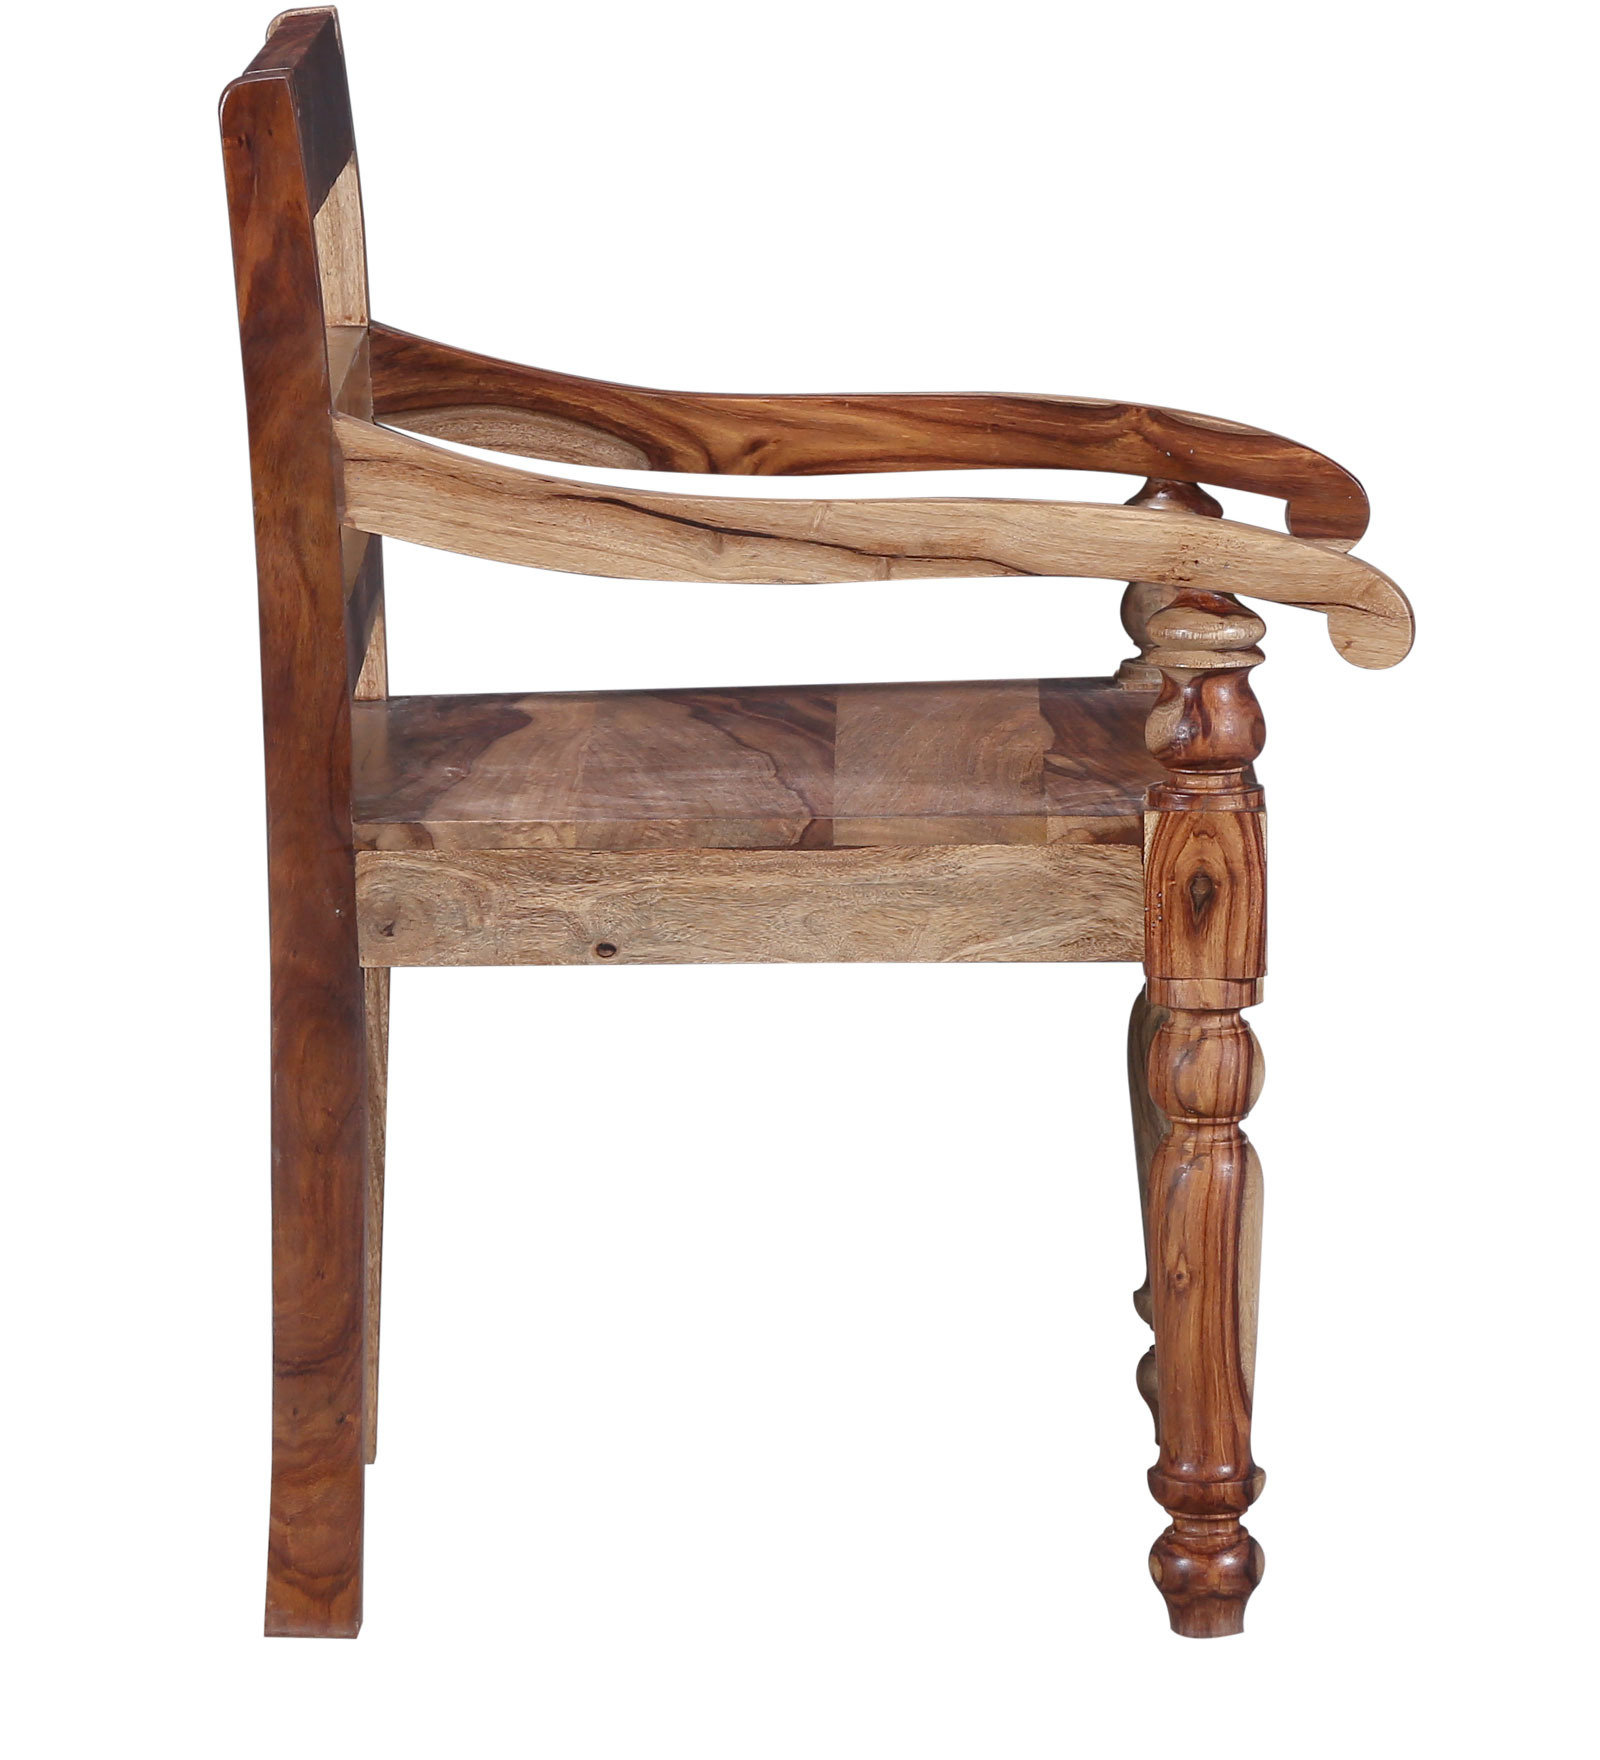Maud Arm Chair in Natural Sheesham Finish by Amberville: (205, 8, 1413, 1645)
